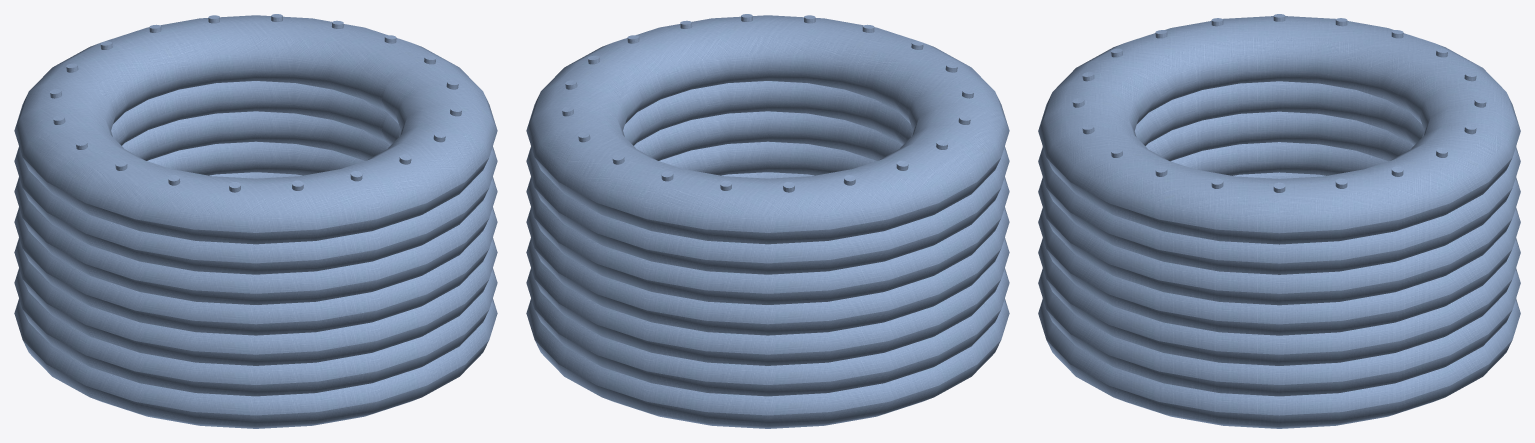
Rendered from cesto.glb.
3 views of the same model, side by side, from view 1: azimuth 30°, elevation 25°; view 2: azimuth 150°, elevation 25°; view 3: azimuth 270°, elevation 25° (orthographic).
Parts seen in each view (by area): view 1: Trama circular.006, Trama circular.005, Trama circular.004, Trama circular.003, Trama circular, Trama circular.002, Trama circular.001; view 2: Trama circular.006, Trama circular.005, Trama circular.004, Trama circular.003, Trama circular, Trama circular.002, Trama circular.001; view 3: Trama circular.006, Trama circular.005, Trama circular.004, Trama circular.003, Trama circular, Trama circular.002, Trama circular.001.
Part boxes in pixels (box(x1,y1,x2,y2)): Trama circular.006: box(14, 15, 497, 244); Trama circular.005: box(14, 81, 497, 274); Trama circular.004: box(14, 111, 497, 304); Trama circular.003: box(14, 141, 497, 335); Trama circular: box(14, 298, 497, 428); Trama circular.002: box(14, 172, 497, 365); Trama circular.001: box(14, 268, 497, 396); Trama circular.006: box(526, 15, 1009, 244); Trama circular.005: box(526, 81, 1009, 274); Trama circular.004: box(526, 111, 1009, 304); Trama circular.003: box(526, 141, 1009, 335); Trama circular: box(526, 298, 1009, 428); Trama circular.002: box(526, 172, 1009, 365); Trama circular.001: box(526, 268, 1009, 396); Trama circular.006: box(1038, 16, 1520, 244); Trama circular.005: box(1038, 81, 1520, 274); Trama circular.004: box(1038, 111, 1520, 305); Trama circular.003: box(1038, 142, 1520, 335); Trama circular: box(1038, 298, 1520, 428); Trama circular.002: box(1038, 172, 1520, 365); Trama circular.001: box(1038, 268, 1520, 396).
Size of the model in its own units: 1.44 by 0.8043 by 1.44.
Materials: 1 (1 with a texture image).
